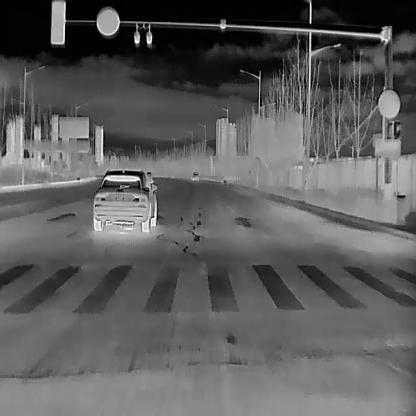car: (92, 168, 156, 232), (191, 170, 199, 180)
